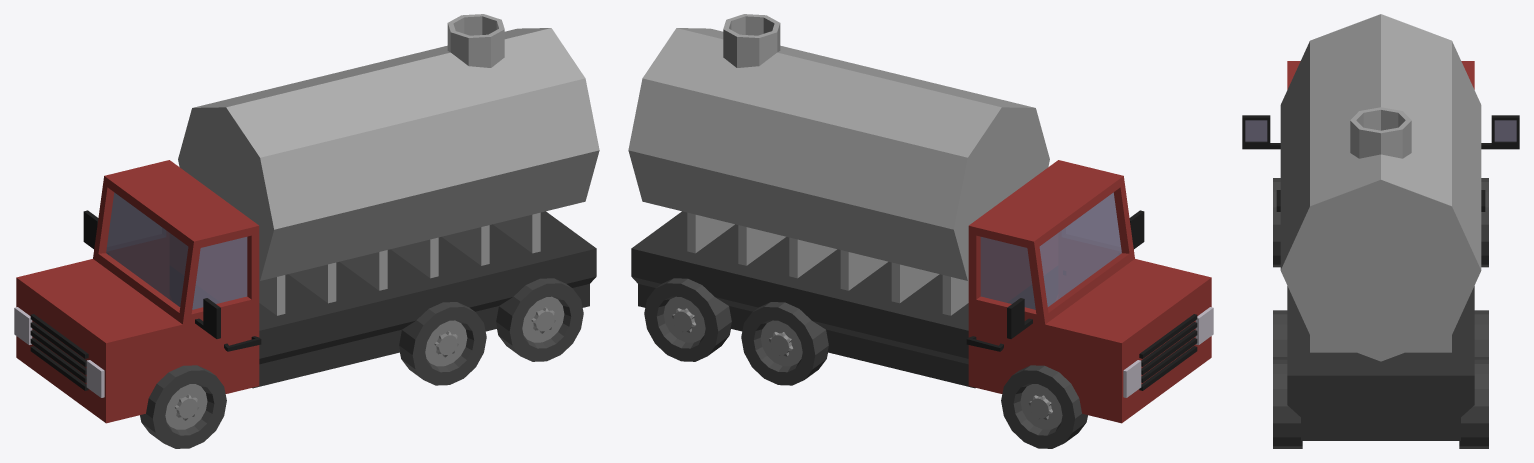
Rendered from Truck2.fbx.
3 renders of one model, left to right at view 1: azimuth 30°, elevation 25°; view 2: azimuth 150°, elevation 25°; view 3: azimuth 270°, elevation 25°, orthographic. The views are drawn at different scales.
Parts seen in each view (by area): view 1: Truck1, Llanta9, Llanta8, Llanta10; view 2: Truck1, Llanta7, Llanta6, Llanta5; view 3: Truck1, Llanta6, Llanta8, Llanta7, Llanta9, Llanta5, Llanta10.
Boxes of the visible parts, bbox=[...] form: Truck1: bbox=[14, 14, 599, 423]; Llanta9: bbox=[399, 302, 486, 385]; Llanta8: bbox=[496, 278, 583, 361]; Llanta10: bbox=[140, 365, 226, 448]; Truck1: bbox=[628, 14, 1213, 423]; Llanta7: bbox=[741, 302, 828, 385]; Llanta6: bbox=[644, 278, 731, 361]; Llanta5: bbox=[1001, 365, 1087, 448]; Truck1: bbox=[1242, 14, 1519, 440]; Llanta6: bbox=[1459, 359, 1488, 448]; Llanta8: bbox=[1273, 359, 1302, 448]; Llanta7: bbox=[1474, 310, 1488, 359]; Llanta9: bbox=[1273, 310, 1287, 359]; Llanta5: bbox=[1481, 178, 1488, 267]; Llanta10: bbox=[1273, 178, 1280, 267].
Size of the model in its own units: 278 by 162 by 130.
